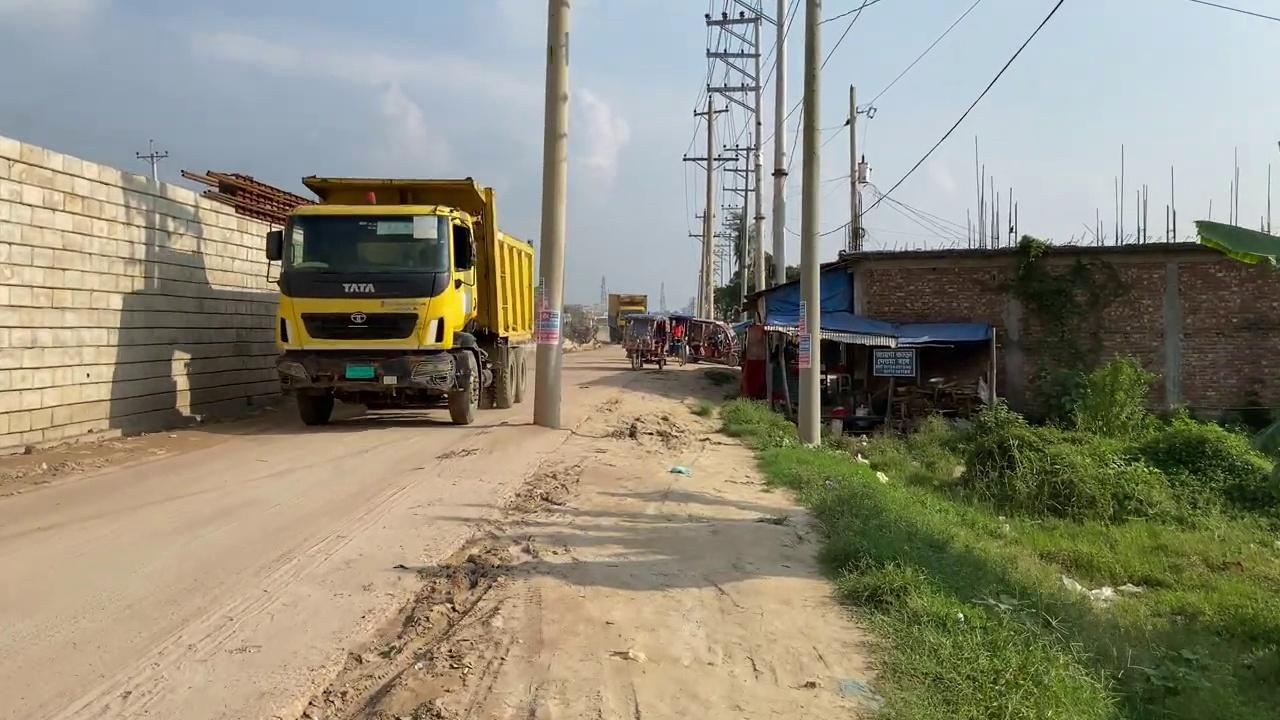Pole: (532, 0, 570, 428), (795, 0, 822, 446)
Rickshaw: (578, 371, 787, 718)
Tree: (264, 173, 535, 426), (686, 317, 738, 365), (607, 292, 647, 344)
Upstairs: (0, 133, 288, 454)
